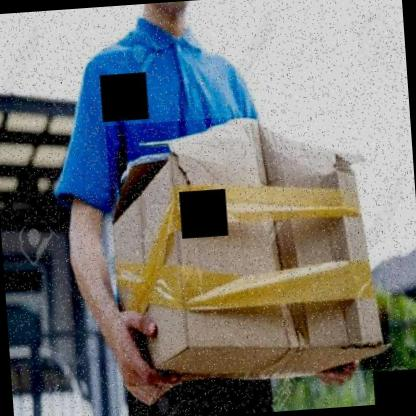box: (106, 107, 393, 387)
